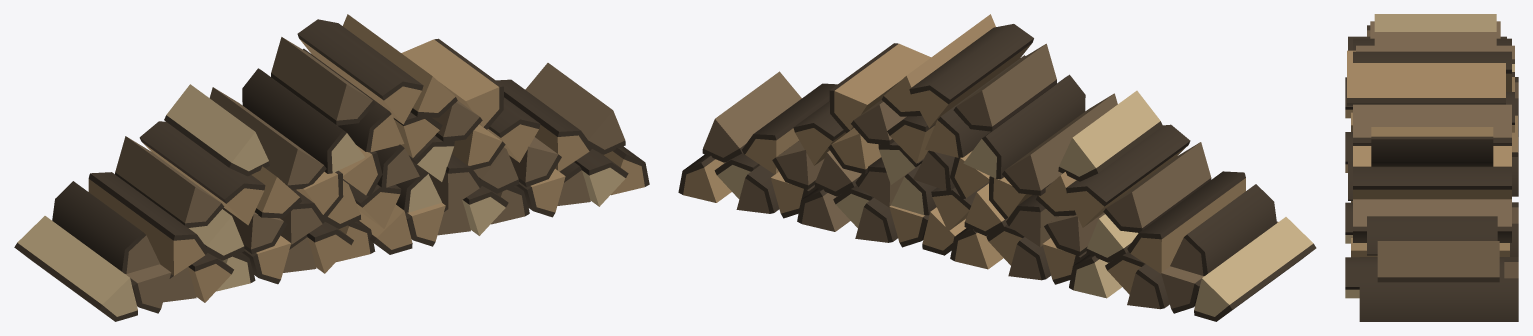
Rendered from DES_SM_Prop_Wood_Pile_01.fbx.
3 renders of one model, left to right at view 1: azimuth 30°, elevation 25°; view 2: azimuth 150°, elevation 25°; view 3: azimuth 270°, elevation 25°, orthographic. The views are drawn at different scales.
Visible parts, largest first — view 1: SM_Prop_Wood_Pile_01; view 2: SM_Prop_Wood_Pile_01; view 3: SM_Prop_Wood_Pile_01.
Boxes of the visible parts, x1,y1,x2,y2 form: SM_Prop_Wood_Pile_01: (14, 14, 649, 321); SM_Prop_Wood_Pile_01: (678, 14, 1316, 321); SM_Prop_Wood_Pile_01: (1345, 14, 1518, 321).
Size of the model in its own units: 457 by 136 by 132.
